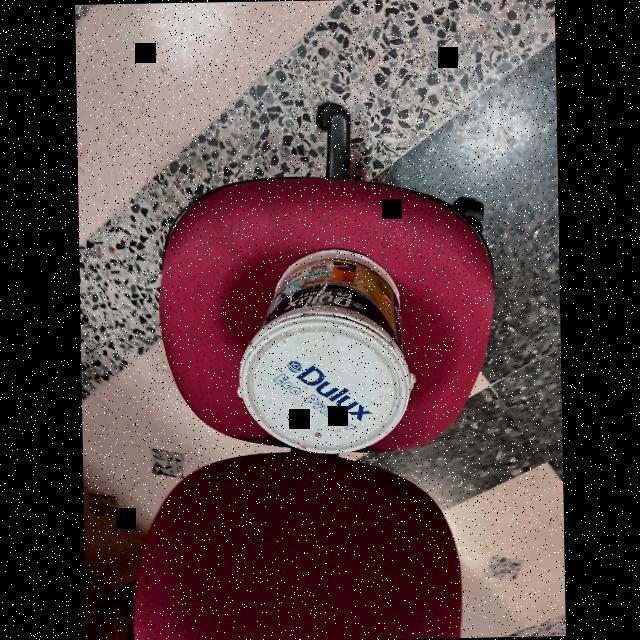paint_bucket: (226, 242, 428, 456)
